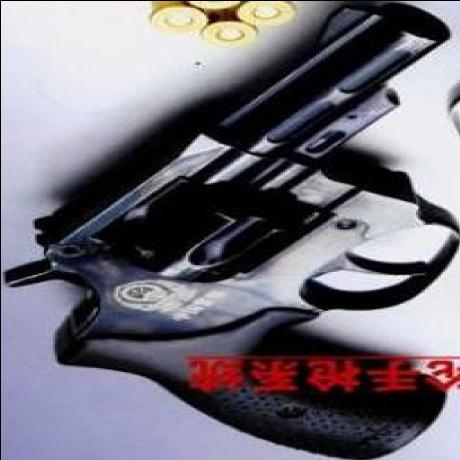weapon: (12, 8, 452, 456)
